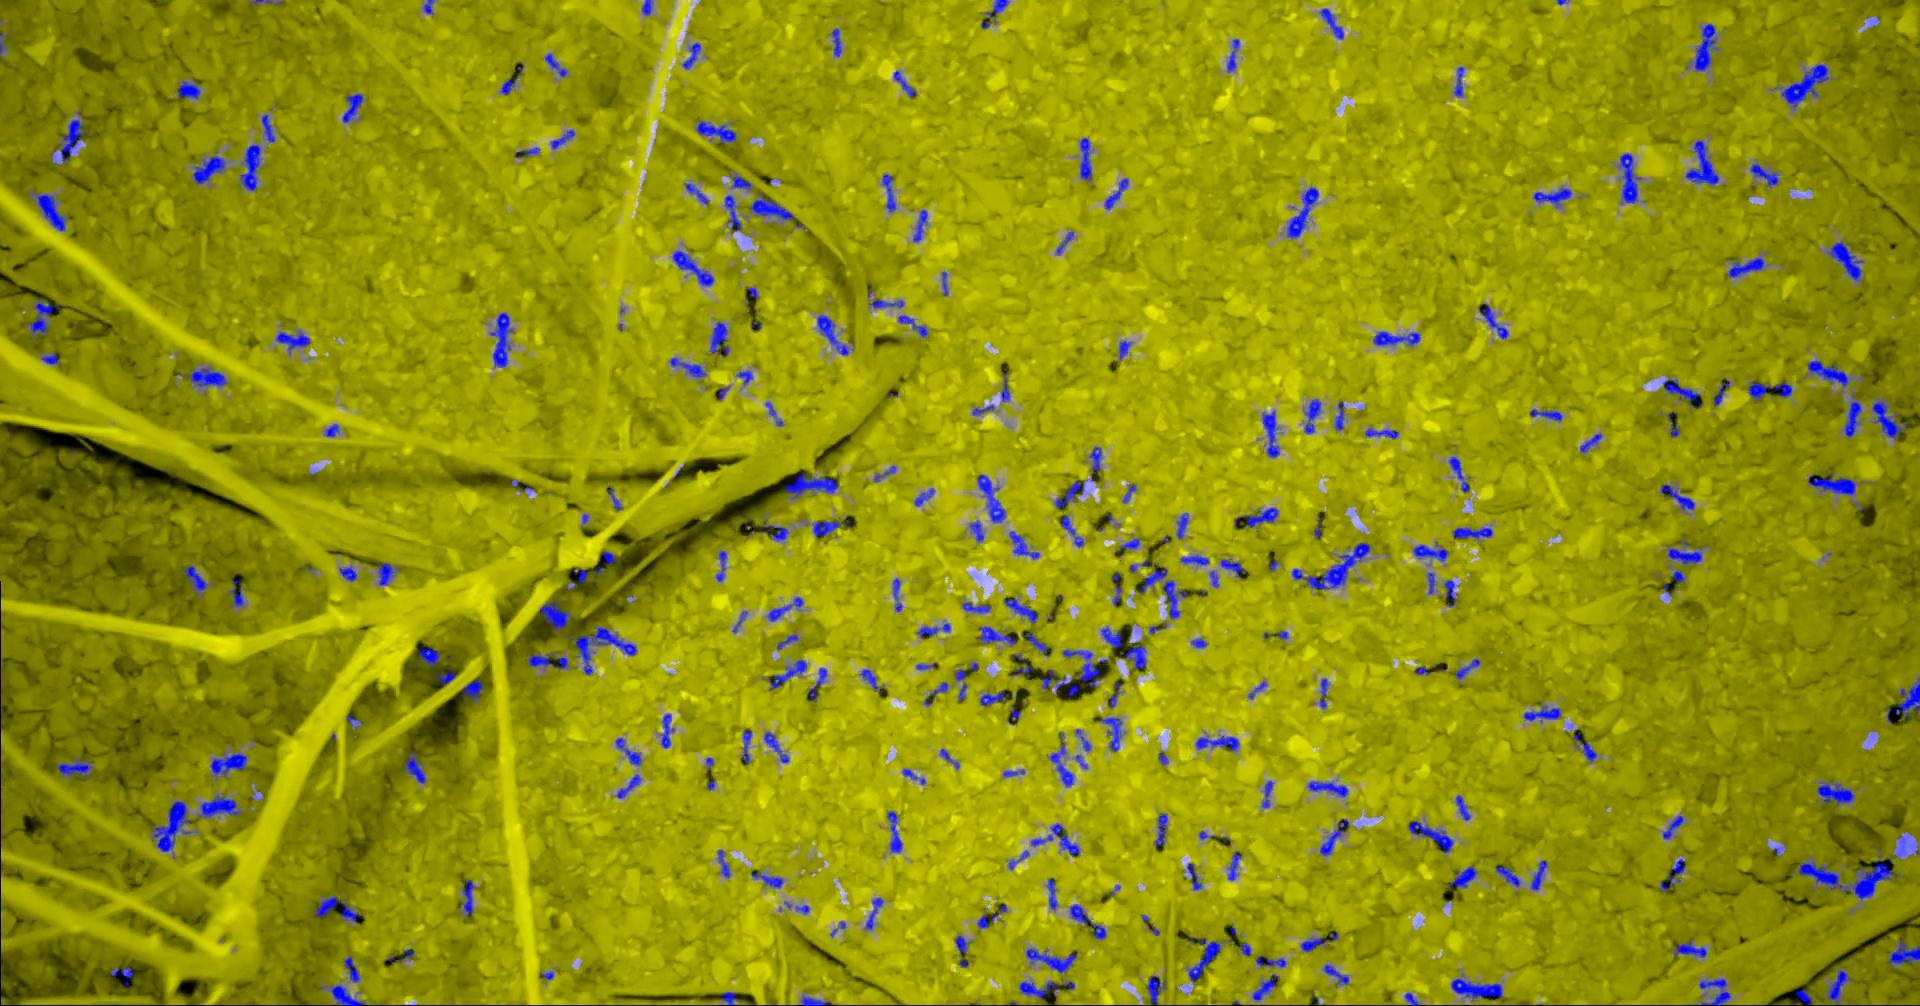ant: (1293, 542, 1371, 589), (568, 626, 637, 674), (1142, 565, 1189, 619), (1777, 64, 1830, 108), (152, 800, 193, 851), (1288, 185, 1321, 238), (61, 111, 93, 161), (1032, 823, 1081, 855), (1688, 140, 1721, 185), (818, 314, 855, 354), (783, 473, 841, 498), (1410, 821, 1455, 852), (674, 250, 715, 286), (1888, 678, 1920, 723), (978, 474, 1007, 522), (1829, 241, 1865, 279), (1873, 400, 1909, 439), (1451, 973, 1503, 1000), (1190, 937, 1222, 981), (1064, 649, 1101, 686), (36, 191, 70, 230), (1051, 732, 1076, 786), (750, 191, 796, 218), (1070, 904, 1107, 939), (1027, 948, 1079, 972), (315, 895, 362, 922), (491, 312, 514, 367), (1620, 152, 1643, 203), (30, 298, 61, 337), (768, 659, 808, 688), (1321, 818, 1350, 855), (1810, 473, 1857, 495), (1665, 379, 1703, 406), (1810, 359, 1849, 386), (1697, 23, 1718, 70), (541, 600, 573, 631), (1481, 304, 1510, 338), (201, 794, 243, 817), (241, 144, 262, 191), (697, 119, 737, 144), (1825, 969, 1851, 1005), (194, 155, 227, 183), (1236, 507, 1280, 527), (212, 751, 248, 776), (1662, 484, 1697, 509), (770, 596, 804, 621), (1057, 479, 1086, 508), (1011, 530, 1041, 558), (1749, 381, 1793, 400), (1700, 978, 1732, 1005), (1662, 857, 1688, 890), (1004, 598, 1039, 622), (1818, 782, 1857, 804), (1263, 412, 1281, 457), (764, 730, 790, 762), (1845, 392, 1863, 437), (982, 0, 1010, 28), (1728, 257, 1766, 277), (190, 367, 229, 387), (1890, 939, 1920, 964), (1321, 8, 1345, 39), (1106, 178, 1130, 210), (670, 357, 707, 377), (1020, 981, 1062, 998), (1101, 716, 1123, 751), (1062, 514, 1084, 546), (1575, 729, 1597, 761), (1450, 456, 1470, 492), (331, 984, 367, 1005), (1525, 702, 1562, 721), (1302, 932, 1338, 951), (1534, 188, 1573, 206), (530, 652, 569, 669), (502, 64, 524, 94), (183, 565, 210, 591), (617, 737, 643, 763), (1253, 974, 1280, 1000), (1752, 163, 1780, 187), (1123, 641, 1147, 669), (899, 315, 930, 337), (1375, 332, 1422, 345), (980, 626, 1017, 644), (277, 332, 311, 351), (809, 667, 828, 701), (888, 810, 903, 852), (1415, 544, 1450, 561), (58, 758, 94, 776), (711, 321, 730, 354), (406, 752, 427, 782), (1309, 781, 1350, 796), (1451, 865, 1478, 888), (344, 93, 364, 122), (761, 520, 790, 540), (726, 194, 743, 230), (1305, 398, 1322, 433), (461, 879, 477, 915), (1676, 939, 1709, 956), (1197, 735, 1239, 749), (618, 774, 643, 798), (895, 70, 917, 97), (1669, 547, 1703, 564), (1148, 976, 1167, 1005), (883, 173, 897, 212), (1531, 860, 1549, 890), (1081, 137, 1093, 179), (867, 897, 884, 929), (546, 53, 569, 76), (918, 622, 952, 638), (686, 183, 710, 205), (1457, 658, 1481, 680), (1663, 815, 1685, 840), (1497, 865, 1521, 887), (1324, 964, 1350, 984), (814, 520, 842, 537), (568, 568, 590, 589), (462, 680, 485, 701), (914, 210, 930, 241), (662, 713, 676, 747), (684, 42, 702, 69), (179, 77, 202, 98), (1454, 527, 1495, 539), (1058, 676, 1081, 696), (1156, 813, 1170, 846), (752, 873, 785, 887), (552, 130, 577, 149), (378, 561, 397, 586), (110, 967, 135, 986), (230, 578, 245, 607), (1102, 627, 1124, 648), (1029, 631, 1049, 653), (862, 669, 883, 691), (1228, 38, 1241, 72), (1222, 558, 1246, 575), (1716, 379, 1731, 406), (385, 948, 415, 962), (1531, 408, 1564, 420), (941, 748, 961, 768), (1581, 433, 1603, 452), (437, 666, 458, 685), (1229, 851, 1243, 880), (1058, 231, 1076, 254), (767, 401, 783, 426), (1110, 680, 1124, 708), (916, 486, 936, 506), (420, 647, 441, 666), (982, 690, 1007, 705), (1457, 795, 1472, 821), (1010, 850, 1030, 869), (345, 956, 361, 982), (731, 173, 753, 191), (1366, 427, 1399, 438), (1048, 876, 1059, 909), (1189, 862, 1203, 889), (608, 486, 623, 511), (956, 669, 968, 701), (978, 911, 998, 929), (1143, 915, 1161, 935), (875, 465, 897, 481), (964, 601, 992, 614), (719, 848, 731, 876), (743, 729, 753, 763), (1257, 955, 1288, 967), (263, 114, 276, 141), (1091, 446, 1103, 473), (1445, 579, 1458, 606), (785, 901, 811, 913), (1182, 554, 1211, 565), (778, 634, 800, 649), (904, 768, 926, 784), (1455, 66, 1465, 97), (1336, 400, 1346, 431), (717, 550, 728, 580), (1077, 729, 1092, 749), (803, 995, 833, 1005), (1669, 412, 1681, 436), (871, 298, 905, 307), (1178, 512, 1190, 539), (1114, 572, 1123, 606), (1263, 780, 1275, 807), (971, 520, 985, 541), (894, 578, 903, 611), (956, 935, 971, 954), (1796, 989, 1815, 1005), (833, 28, 843, 56), (1043, 669, 1057, 688), (723, 991, 742, 1005), (1002, 372, 1011, 401), (1321, 678, 1330, 708), (516, 147, 541, 158), (1896, 835, 1909, 855), (738, 370, 754, 385), (931, 681, 949, 695), (974, 404, 996, 415), (1010, 705, 1022, 724), (342, 567, 358, 580), (1124, 484, 1137, 502), (1120, 340, 1131, 359), (1121, 539, 1142, 549), (43, 352, 58, 365), (348, 714, 363, 727), (1406, 992, 1421, 1005), (1015, 664, 1032, 674), (328, 423, 342, 436), (603, 551, 617, 564), (1672, 569, 1686, 582), (643, 0, 654, 15), (1, 32, 9, 55), (1316, 516, 1323, 539), (1429, 572, 1436, 593), (424, 0, 436, 14), (1211, 570, 1220, 587), (1241, 942, 1252, 955), (1192, 638, 1208, 647), (943, 271, 949, 295)
